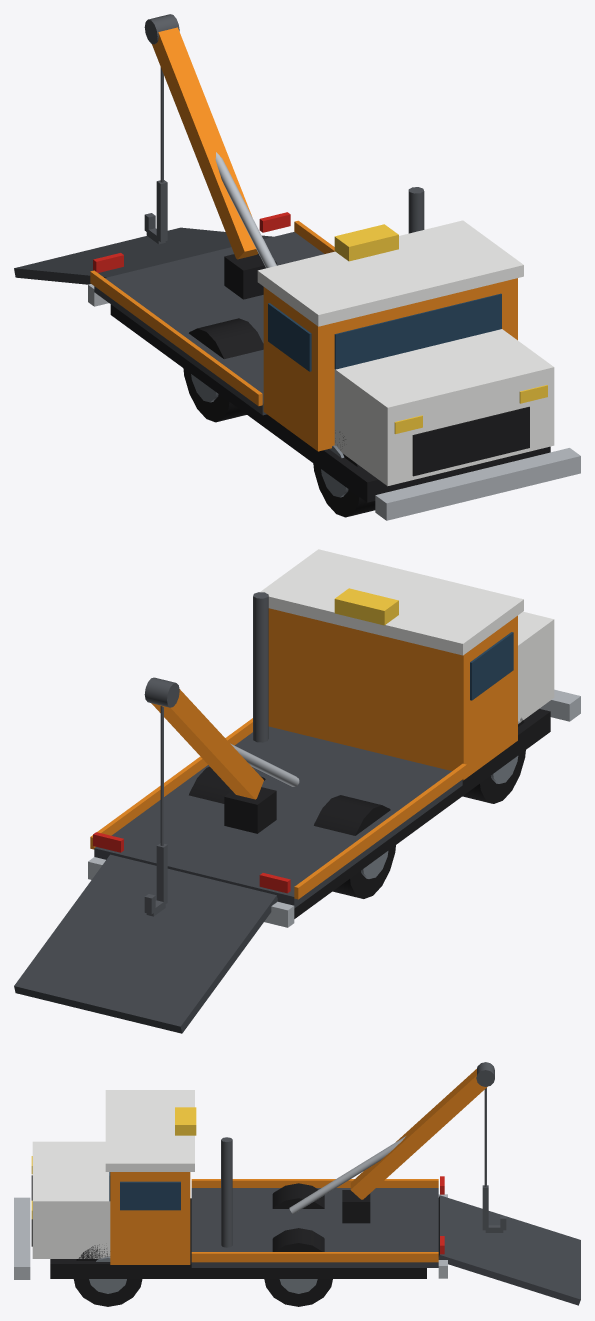
File: tow-truck.glb
The picture shows the model from 3 angles, top to bottom: view 1: azimuth 30°, elevation 25°; view 2: azimuth 150°, elevation 25°; view 3: azimuth 270°, elevation 25°; orthographic projection. The views are drawn at different scales.
Parts seen in each view (by area): view 1: cab, chassis, boom, wheel-back-right, wheel-front-right, hook; view 2: chassis, cab, boom, wheel-back-right, hook, wheel-front-right, wheel-back-left; view 3: chassis, cab, boom, wheel-back-left, wheel-front-left, wheel-back-right, hook.
Part boxes in pixels (<box>): cab: <box>257,187,580,520</box>; chassis: <box>14,212,550,502</box>; boom: <box>144,14,276,299</box>; wheel-back-right: <box>183,318,263,422</box>; wheel-front-right: <box>313,432,375,517</box>; hook: <box>144,67,167,244</box>; chassis: <box>14,708,550,1033</box>; cab: <box>253,549,580,780</box>; boom: <box>144,677,299,833</box>; wheel-back-right: <box>314,795,395,898</box>; hook: <box>144,706,167,916</box>; wheel-front-right: <box>462,718,525,803</box>; wheel-back-left: <box>189,766,265,803</box>; chassis: <box>50,1176,580,1305</box>; cab: <box>14,1090,232,1279</box>; boom: <box>289,1062,494,1223</box>; wheel-back-left: <box>264,1228,332,1306</box>; wheel-front-left: <box>73,1244,142,1306</box>; wheel-back-right: <box>272,1183,324,1208</box>; hook: <box>482,1088,506,1232</box>.
Bounding box in the file's own units: 1.5 × 1.98 × 4.82.
1 material, 1 textured.
